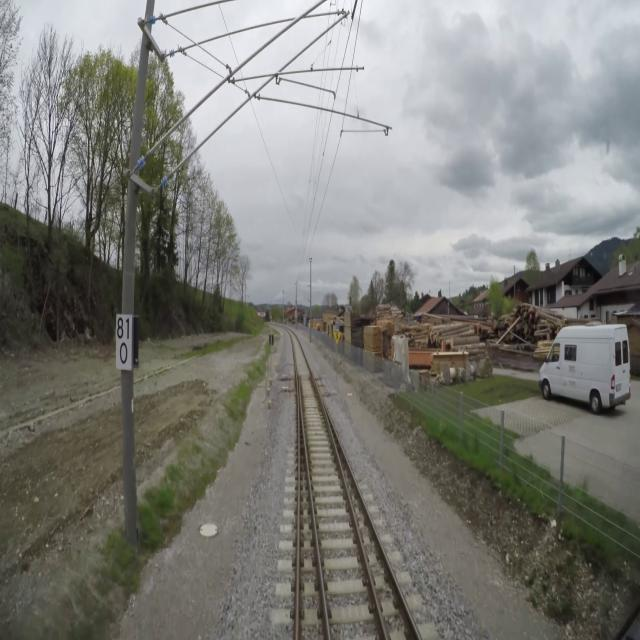rail-track: (292, 335, 383, 639), (337, 443, 417, 639), (300, 433, 326, 639)
